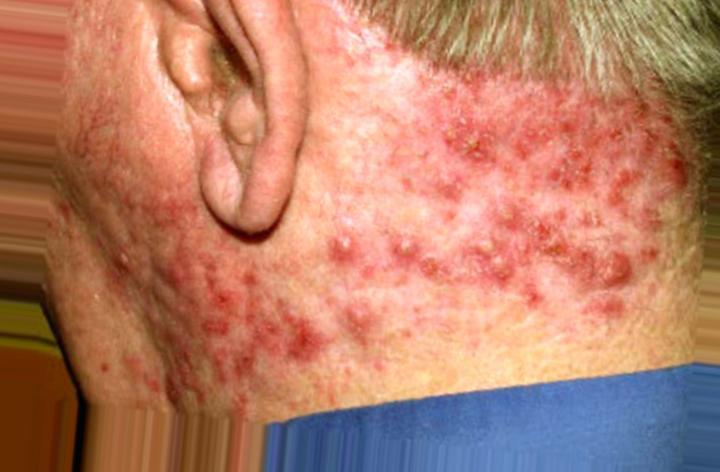Folliculitis: (340, 68, 676, 331)
